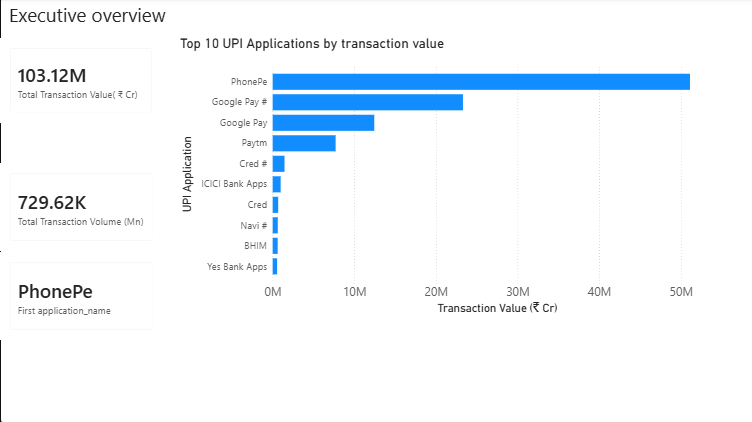

The page's visual inventory and layout, read from the dashboard file:
{"tool":"powerbi","page":{"name":"Page 1","canvas":[1280,720],"ordinal":0},"visuals":[{"type":"textbox","box":[10.2,0,289.5,67.7],"z":0},{"type":"cardVisual","fields":{"Data":["Sum(upi_apps_historical.total_value_cr)"]},"box":[0,67.7,274.3,143.9],"z":1000},{"type":"cardVisual","fields":{"Data":["Sum(upi_apps_historical.total_volume_mn)"]},"box":[0,280.1,275,149.4],"z":2000},{"type":"cardVisual","fields":{"Data":["Min(upi_apps_historical.application_name)"]},"box":[0,429.5,275,149.4],"z":3000},{"type":"clusteredBarChart","title":"Top 10 UPI Applications by transaction value","fields":{"Category":["upi_apps_historical.application_name"],"Y":["Sum(upi_apps_historical.total_value_cr)"]},"box":[300.5,64.5,947.3,477],"z":4000}]}

Visuals, with their boxes in screenshot pixels (x1, y1, x2, y2), scaled from the page's 1280x720 canvas onto the 752x422 screenshot:
textbox: pyautogui.locateOnScreen(6, 0, 176, 40)
cardVisual - Sum(upi_apps_historical.total_value_cr): pyautogui.locateOnScreen(0, 40, 161, 124)
cardVisual - Sum(upi_apps_historical.total_volume_mn): pyautogui.locateOnScreen(0, 164, 162, 252)
cardVisual - Min(upi_apps_historical.application_name): pyautogui.locateOnScreen(0, 252, 162, 339)
"Top 10 UPI Applications by transaction value" clusteredBarChart: pyautogui.locateOnScreen(177, 38, 733, 317)
